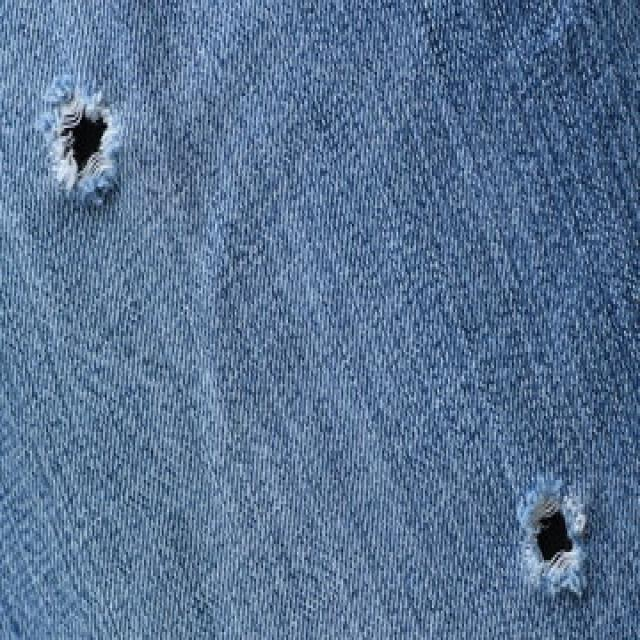Hole: (39, 75, 120, 206), (519, 482, 589, 598)
